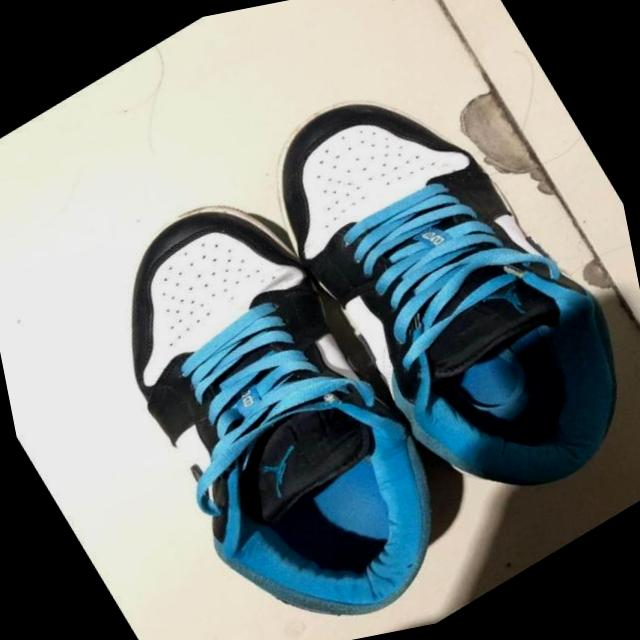nike_fake_jordan: (211, 9, 640, 573), (39, 139, 499, 640)
